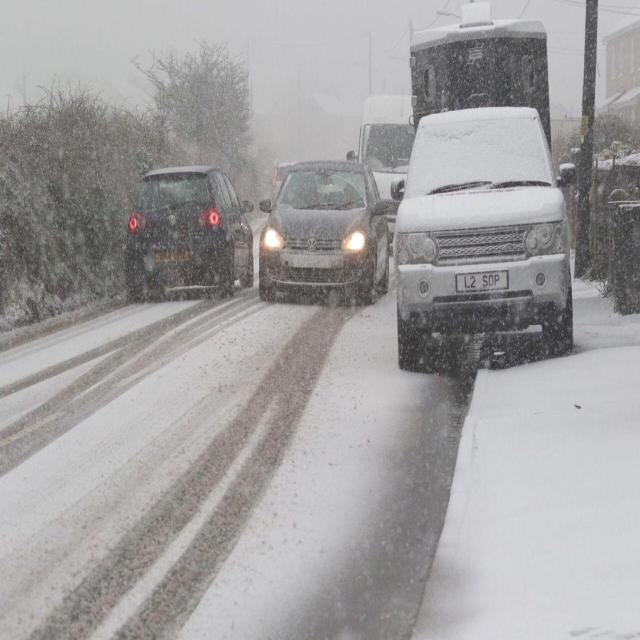Car: (406, 117, 546, 320), (134, 170, 232, 282), (267, 172, 369, 274)
